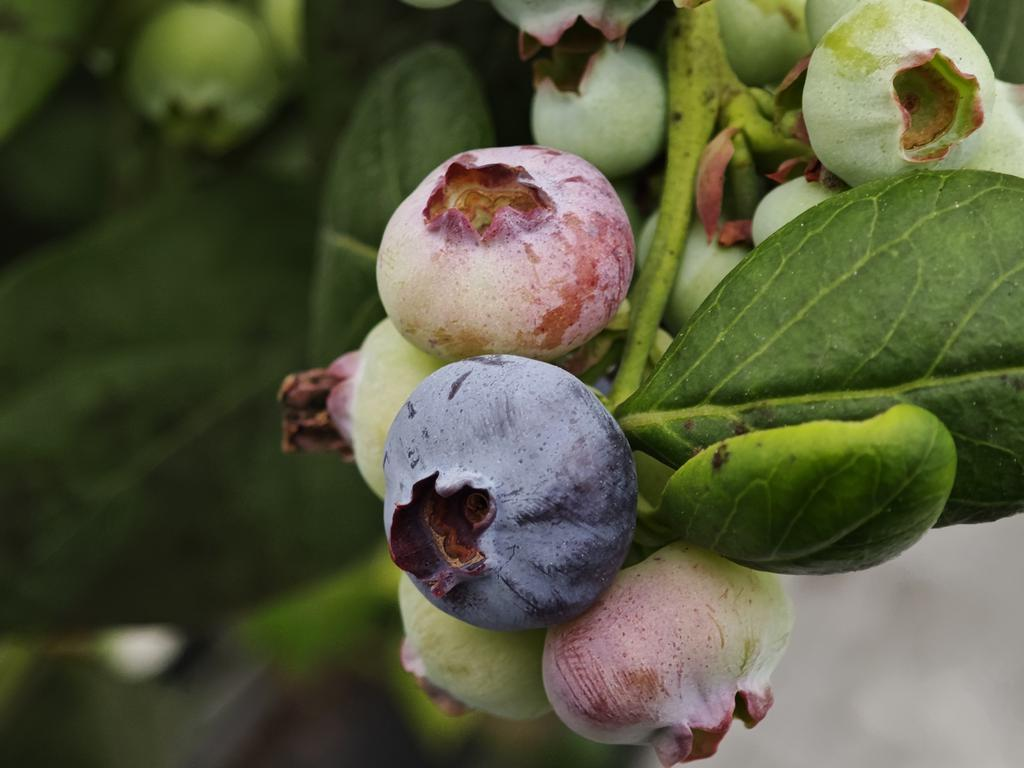RipeBlueBerry: (382, 372, 634, 620)
Semi-RipeBlueBerry: (377, 142, 631, 367)
